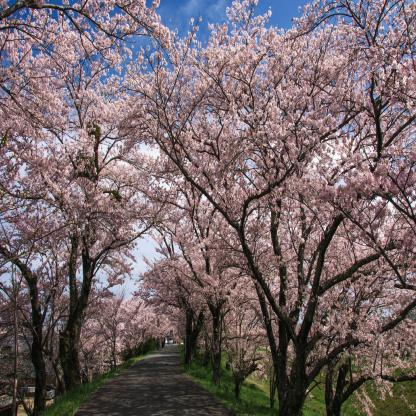Someiyoshino: (179, 3, 414, 376), (0, 3, 176, 250), (1, 259, 66, 383), (86, 289, 172, 367)
